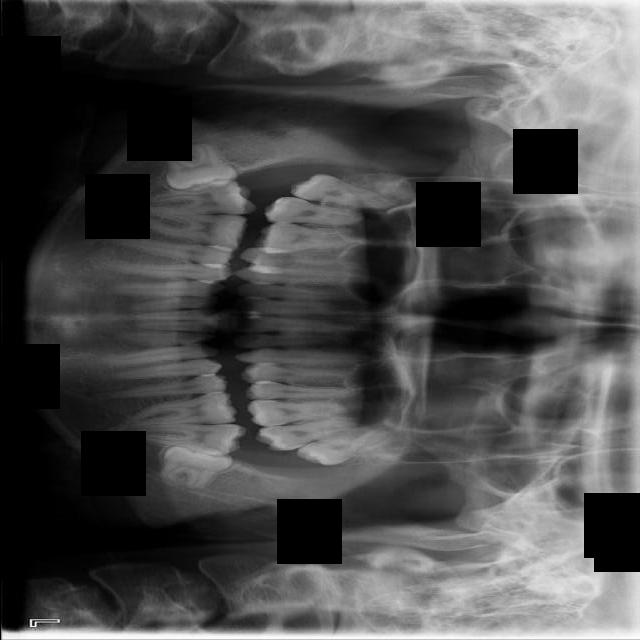3M ESPE Implant: (287, 169, 403, 213)
52: (262, 195, 314, 225), (230, 314, 278, 334), (232, 298, 276, 315)
73: (82, 598, 94, 606)
BioHorizons Implant: (252, 414, 368, 454)
BioLife Implant: (295, 424, 395, 473)
Biomet 3i Implant: (155, 438, 233, 498)
Blue Sky Bio Implant: (127, 423, 246, 456)
Caries: (262, 196, 365, 227)
Implant: (136, 178, 256, 218)
Keystone Dental Implant: (160, 137, 238, 196)
